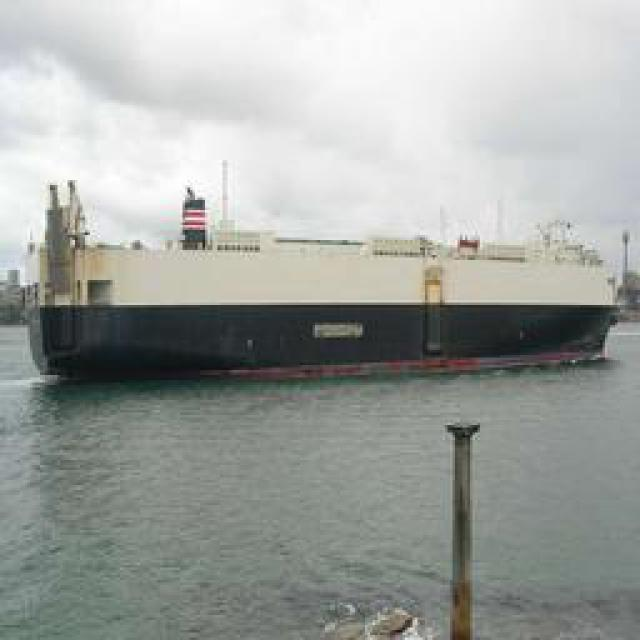Ship: (20, 185, 633, 380)
